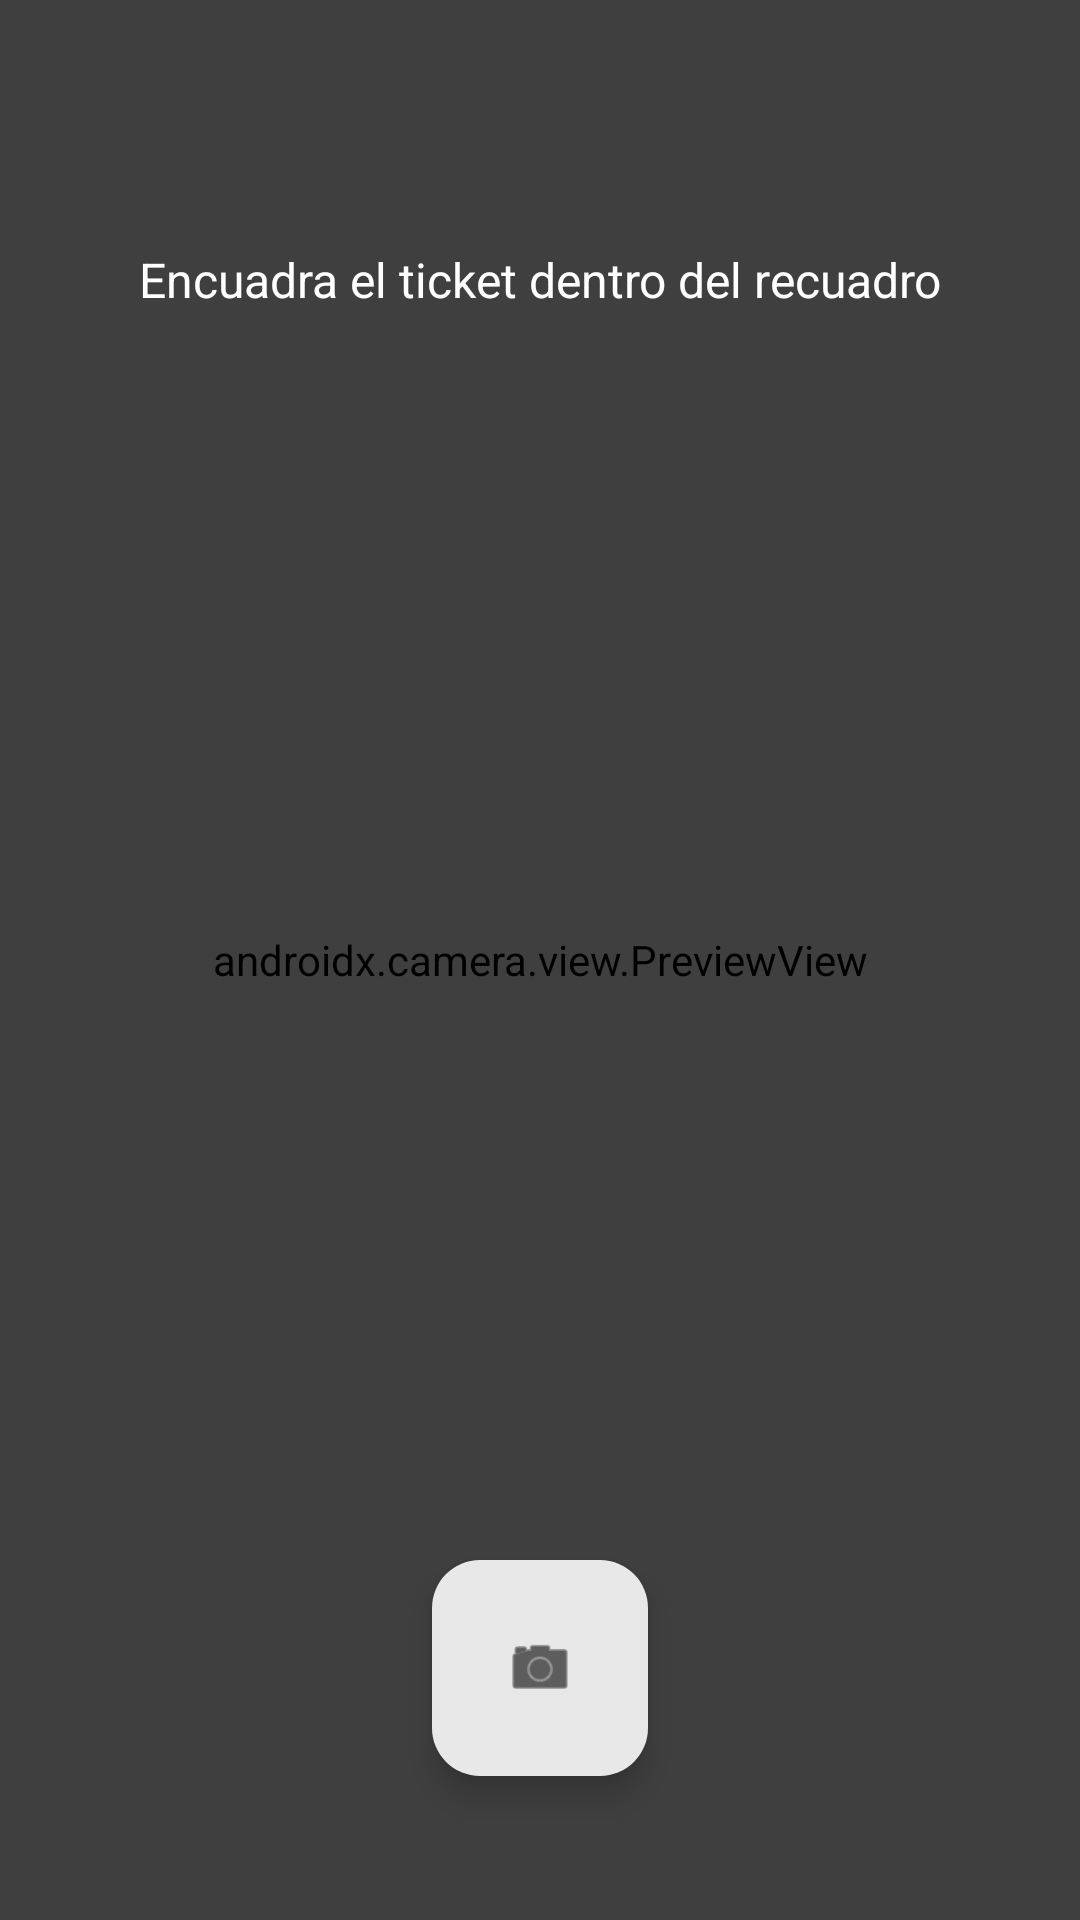

Point at icon controls on the screen. Image size 1080×1920, points as (x,y).
Take photo: (540,1668)
